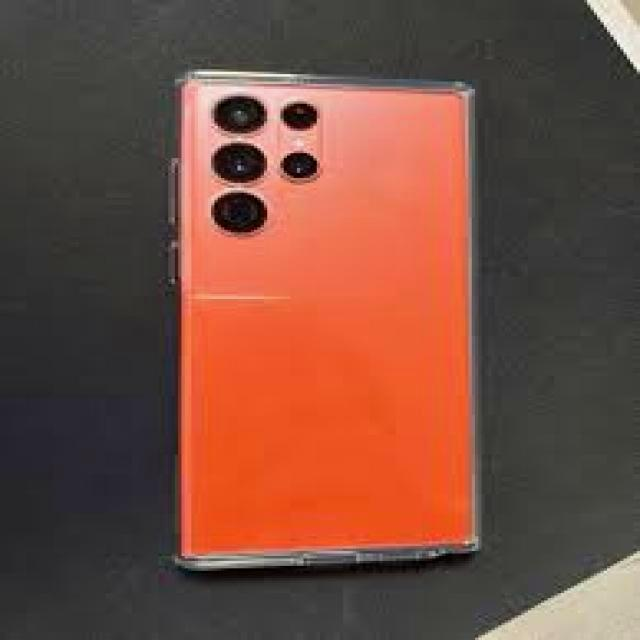lens: (203, 87, 328, 244)
phone: (172, 72, 475, 565)
